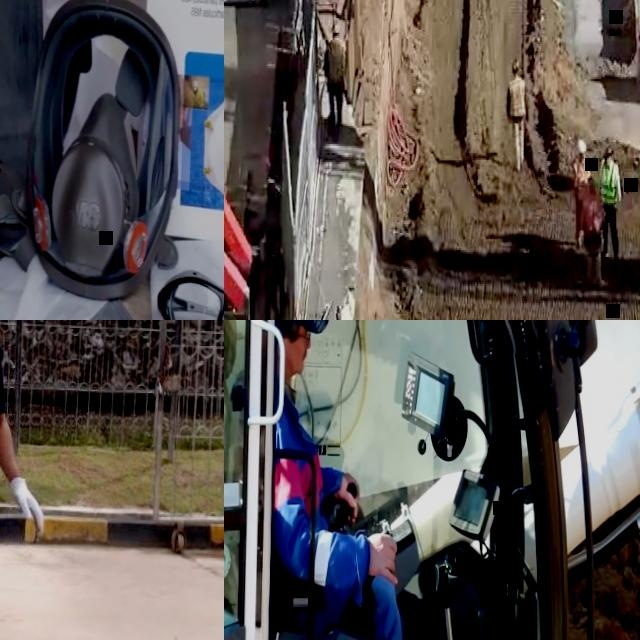Hardhat: (575, 140, 586, 155), (511, 61, 521, 74), (603, 148, 613, 160), (330, 25, 340, 34)
Mask: (28, 0, 180, 302)
NO-Mask: (286, 345, 308, 372)
Person: (270, 320, 407, 640), (0, 320, 46, 640), (574, 179, 607, 289), (597, 147, 622, 265), (506, 59, 527, 175), (323, 24, 346, 127), (572, 140, 591, 251)
Safety Vest: (275, 409, 330, 599), (582, 195, 601, 235), (598, 166, 616, 204), (508, 81, 524, 117), (573, 160, 589, 186)
machinery: (224, 320, 640, 640), (224, 139, 257, 311)
